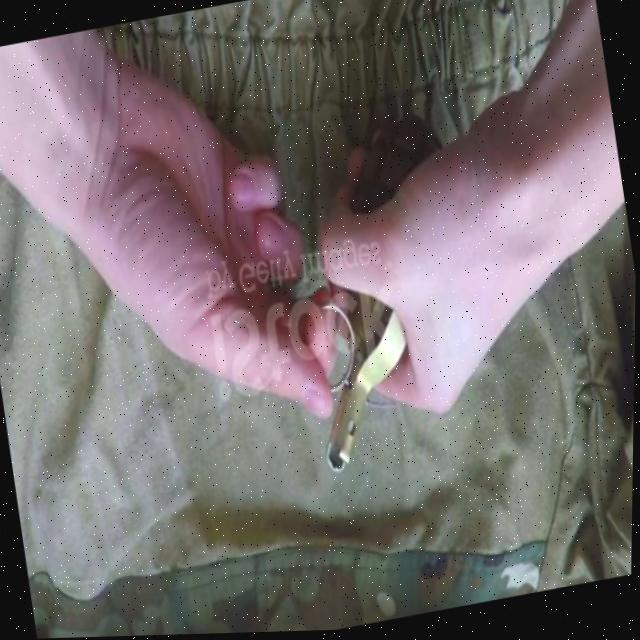grenade: (283, 113, 489, 479)
